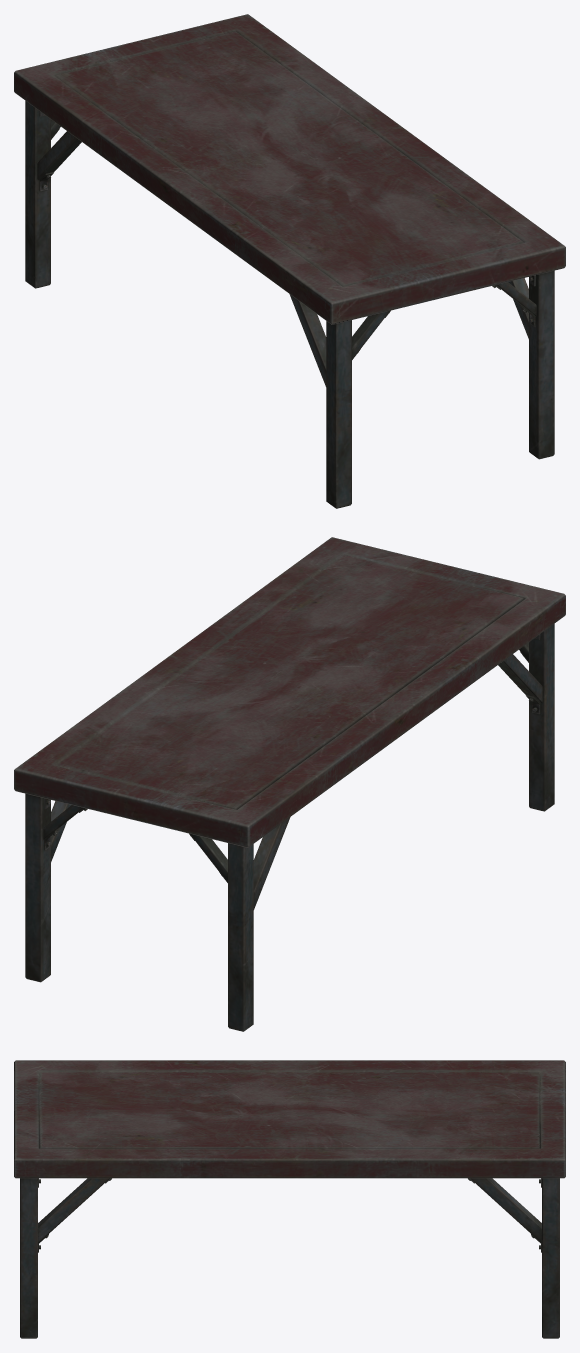
File: table2mini.gltf
3 views of the same model, one above another, from view 1: azimuth 30°, elevation 25°; view 2: azimuth 150°, elevation 25°; view 3: azimuth 270°, elevation 25° (orthographic). The views are drawn at different scales.
Visible parts, largest first — view 1: Table_Rough_32; view 2: Table_Rough_32; view 3: Table_Rough_32.
Boxes of the visible parts, x1=… form: Table_Rough_32: x1=14, y1=14, x2=565, y2=508; Table_Rough_32: x1=14, y1=537, x2=565, y2=1031; Table_Rough_32: x1=14, y1=1060, x2=565, y2=1338.
Size of the model in its own units: 0.8612 by 0.7373 by 2.02.
Materials: 1 (1 with a texture image).
